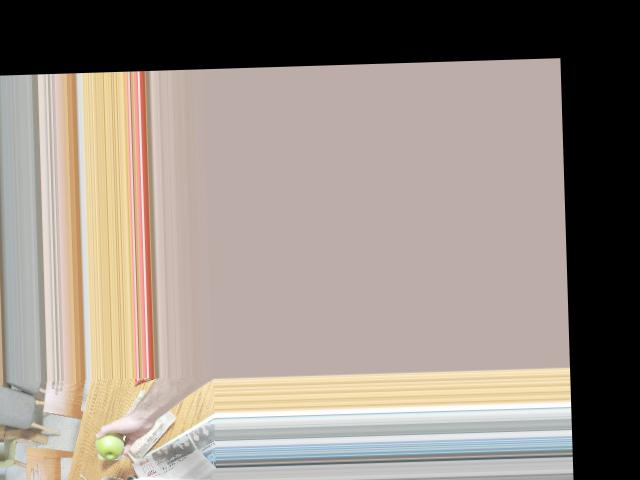apple: (93, 429, 127, 458)
